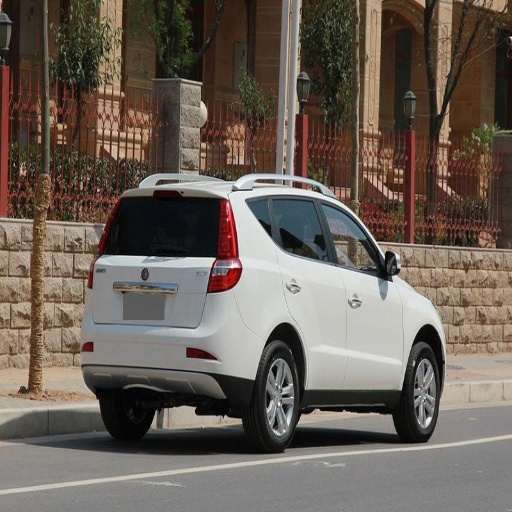back_bumper: (78, 288, 266, 397)
back_right_door: (269, 194, 345, 389)
tailgate: (88, 255, 167, 321)
trunk: (87, 258, 214, 344)
